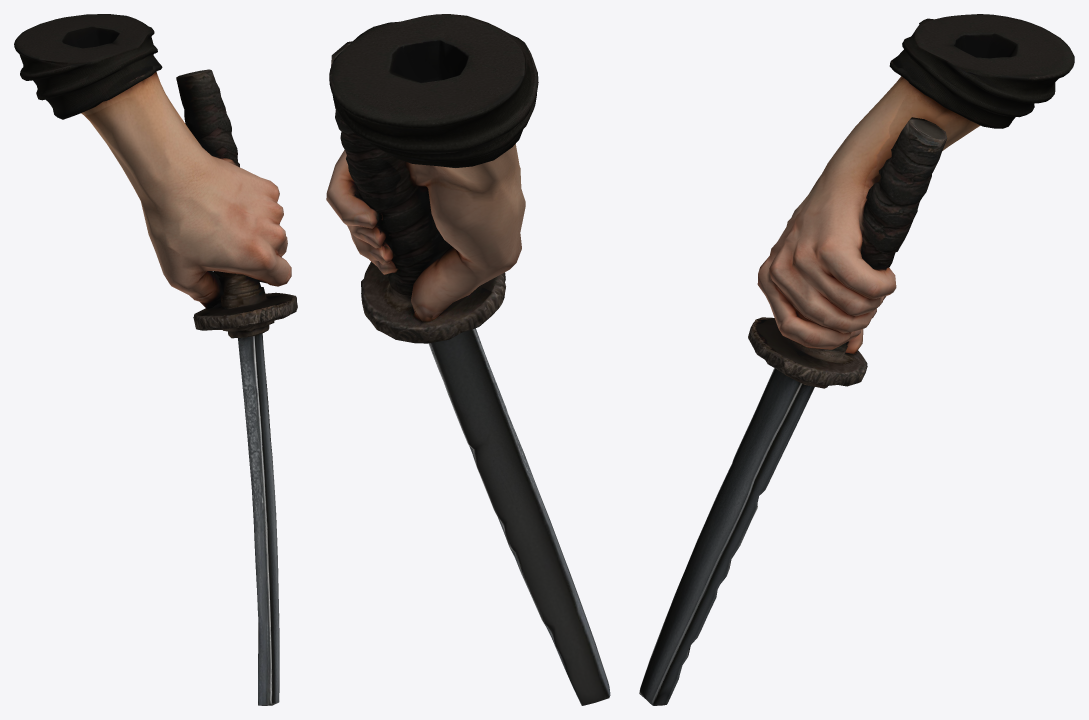
Rendered from katana sword 3d model.glb.
3 views of the same model, side by side, from view 1: azimuth 30°, elevation 25°; view 2: azimuth 150°, elevation 25°; view 3: azimuth 270°, elevation 25° (orthographic). The views are drawn at different scales.
Parts seen in each view (by area): view 1: tripo_node_d6374d12-7ce0-4021-a6ac-777212e650d3; view 2: tripo_node_d6374d12-7ce0-4021-a6ac-777212e650d3; view 3: tripo_node_d6374d12-7ce0-4021-a6ac-777212e650d3.
Boxes of the visible parts, x1,y1,x2,y2 form: tripo_node_d6374d12-7ce0-4021-a6ac-777212e650d3: [14, 14, 297, 705]; tripo_node_d6374d12-7ce0-4021-a6ac-777212e650d3: [326, 14, 610, 705]; tripo_node_d6374d12-7ce0-4021-a6ac-777212e650d3: [639, 14, 1074, 705].
Bounding box in the file's own units: 0.3409 × 0.9795 × 0.5946.
Materials: 1 (1 with a texture image).
